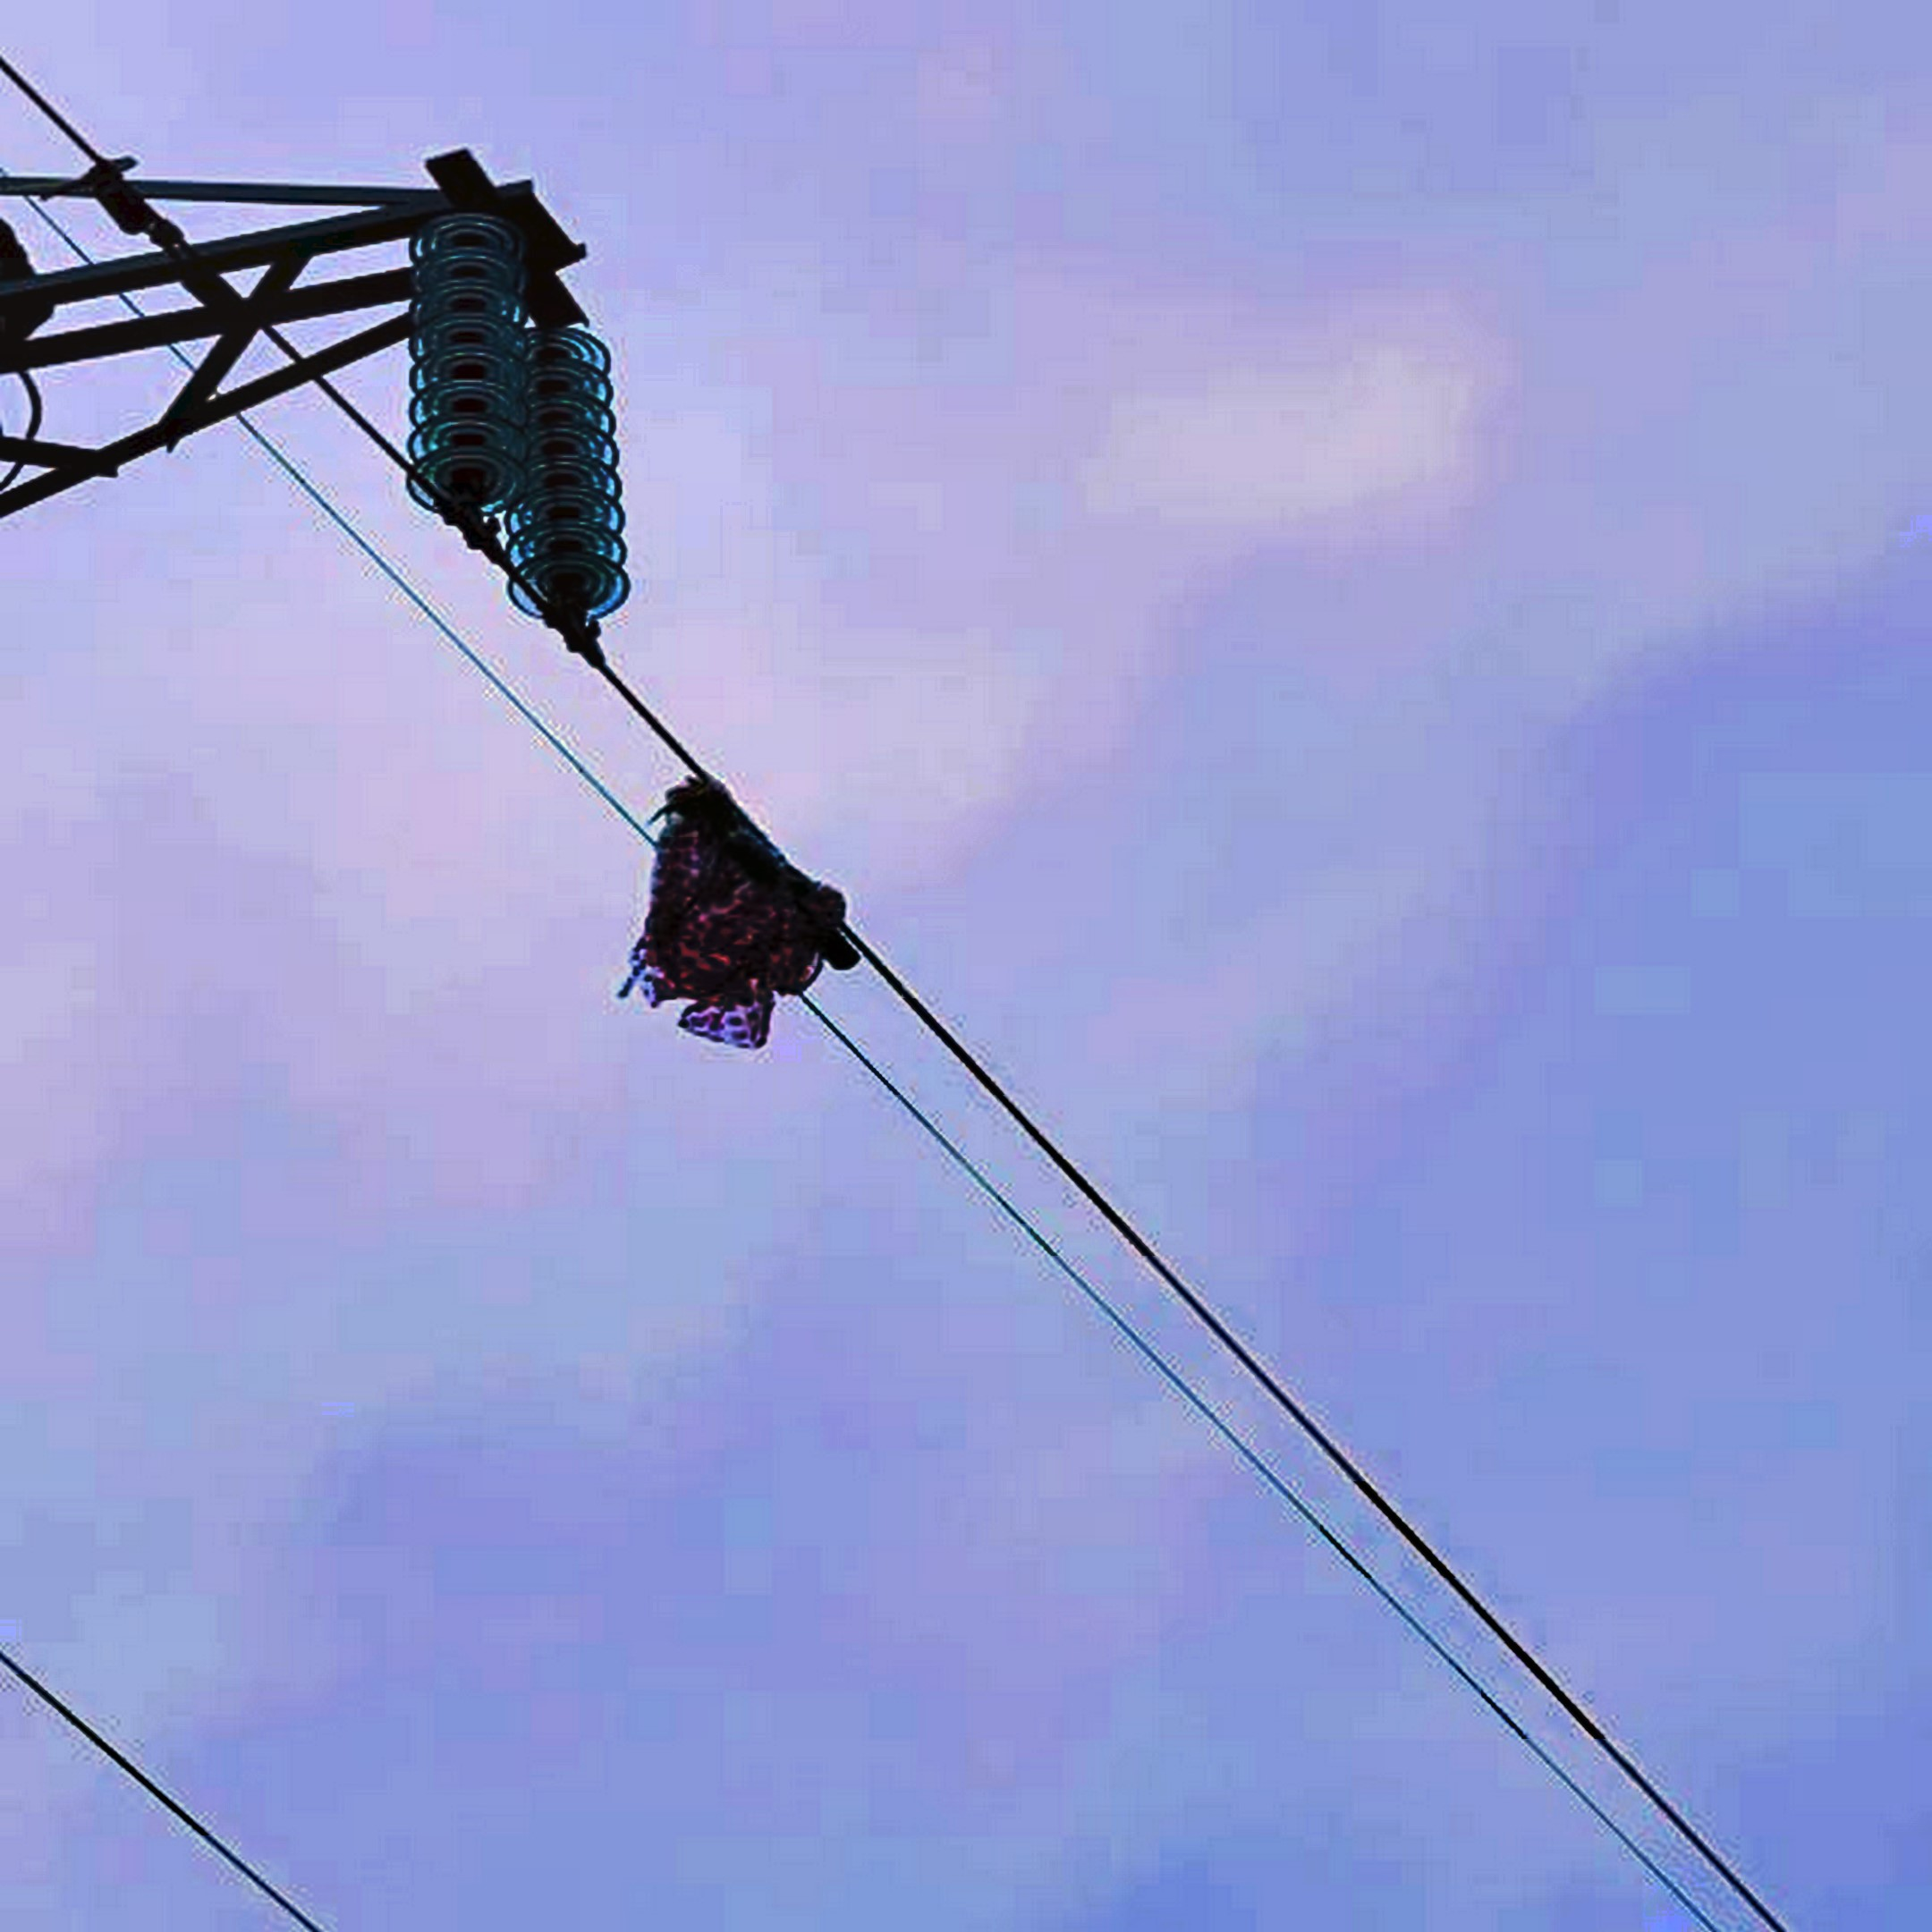wire foreign body: (594, 748, 909, 1090)
